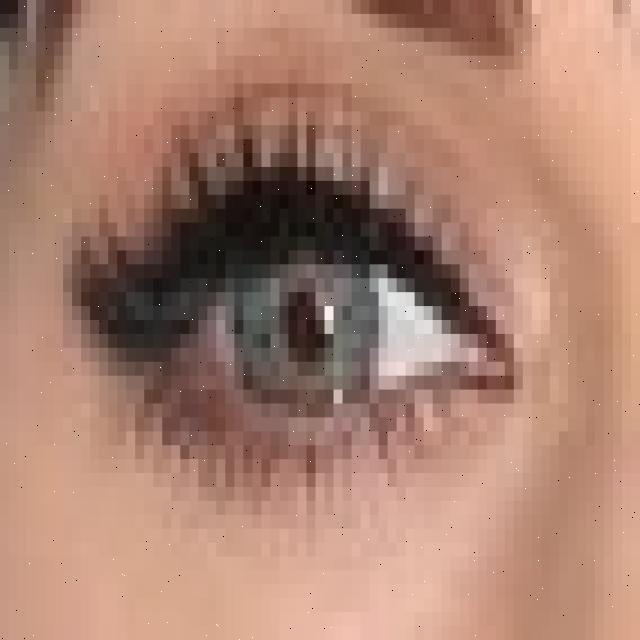Normal: (227, 188, 383, 433)
